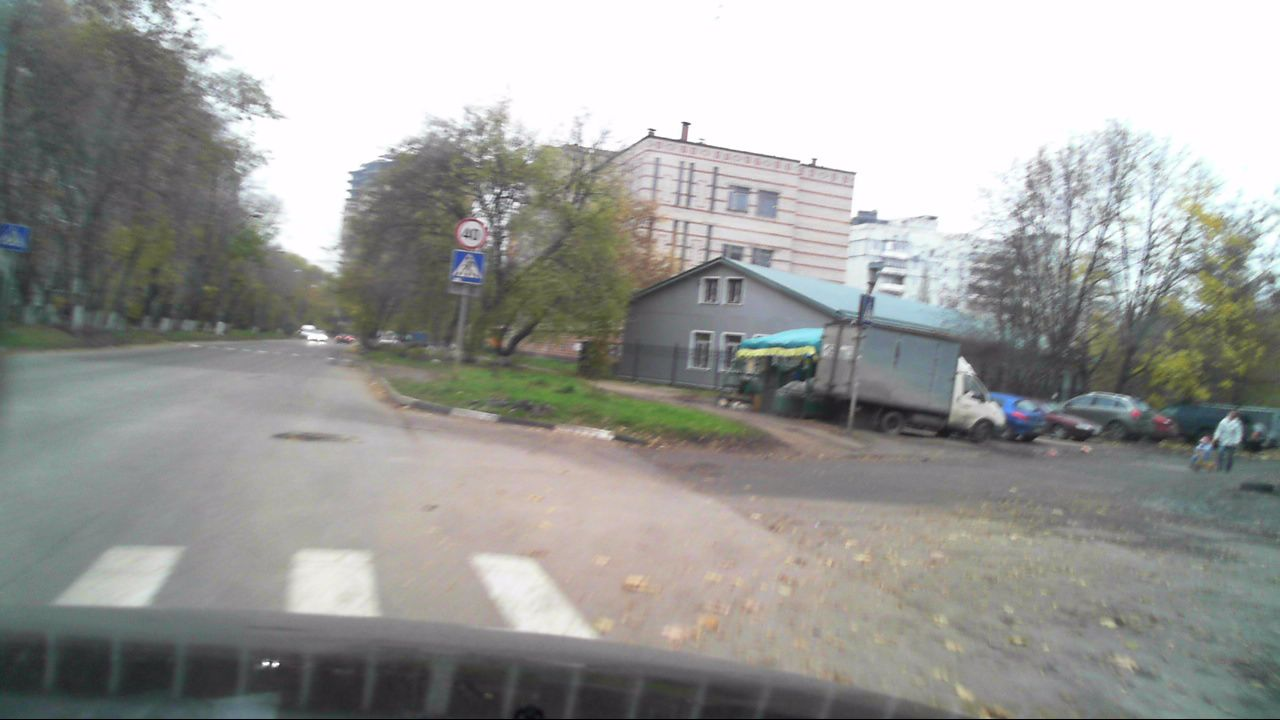speed_warning_40: (455, 218, 484, 249)
